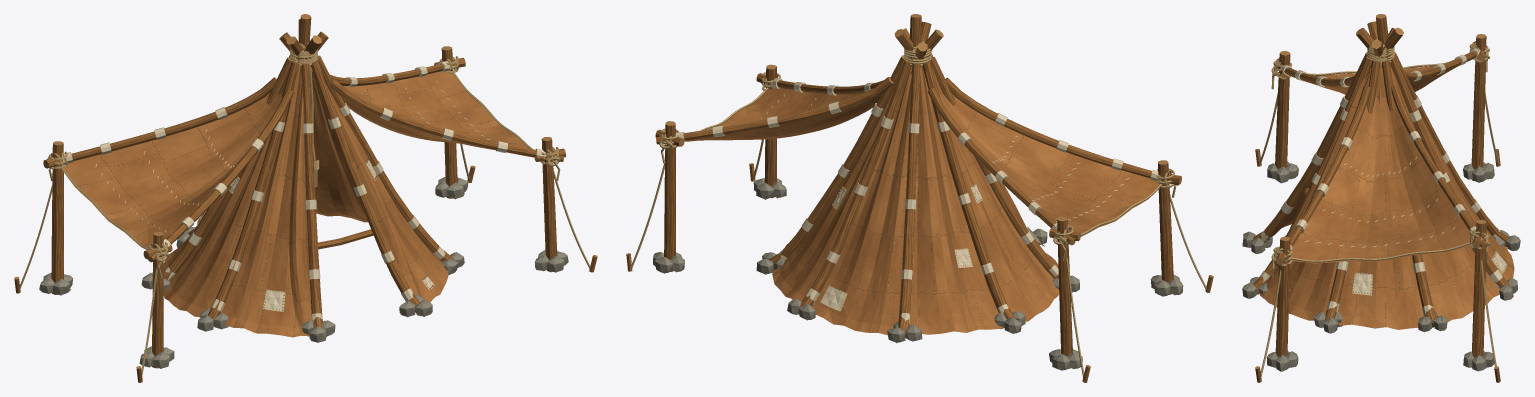
The model's file is RusticTent.obj.
3 views of the same model, side by side, from view 1: azimuth 30°, elevation 25°; view 2: azimuth 150°, elevation 25°; view 3: azimuth 270°, elevation 25° (orthographic). The views are drawn at different scales.
Parts seen in each view (by area): view 1: TentFabric, WoodFrame, LinenBindings, FootStones, Ropes; view 2: TentFabric, WoodFrame, LinenBindings, FootStones, Ropes; view 3: TentFabric, WoodFrame, FootStones, LinenBindings, Ropes.
Part boxes in pixels (x1,y1,x2,y2): TentFabric: (62,57,533,337); WoodFrame: (14,14,597,382); LinenBindings: (62,61,546,322); FootStones: (39,176,568,368); Ropes: (20,43,590,375); TentFabric: (685,57,1159,335); WoodFrame: (626,14,1213,382); LinenBindings: (675,78,1158,323); FootStones: (653,178,1183,370); Ropes: (631,41,1206,377); TentFabric: (1258,53,1514,329); WoodFrame: (1253,14,1509,382); FootStones: (1242,161,1520,371); LinenBindings: (1258,48,1507,316); Ropes: (1259,39,1507,376).
Bounding box in the file's own units: 7.81 × 4.28 × 4.17.
6 materials, 6 textured.
